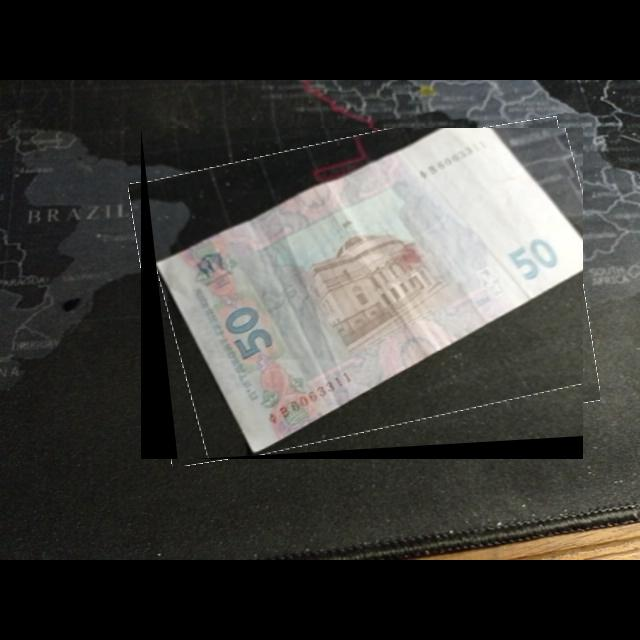50uah: (153, 128, 584, 457)
